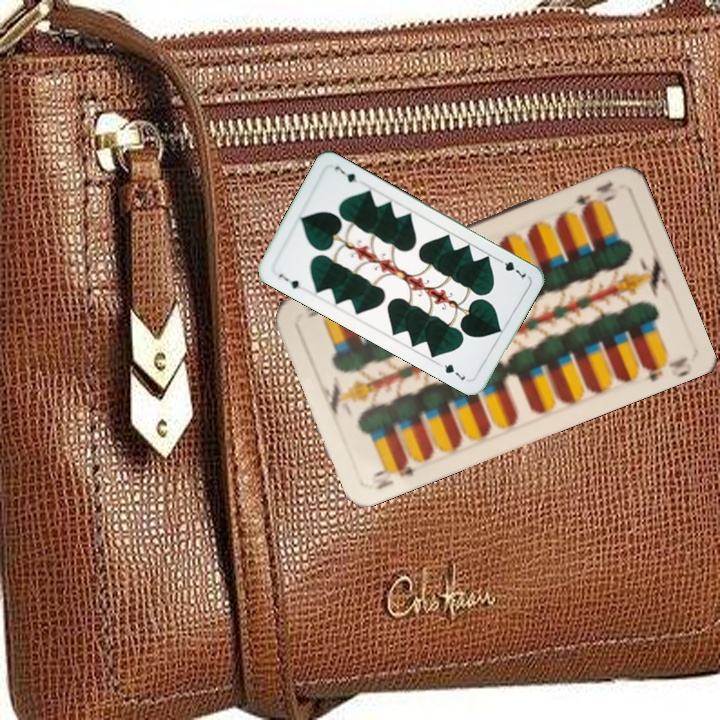E10: (367, 455, 420, 492), (570, 177, 618, 214)
G7: (493, 254, 529, 282), (275, 270, 306, 293)
